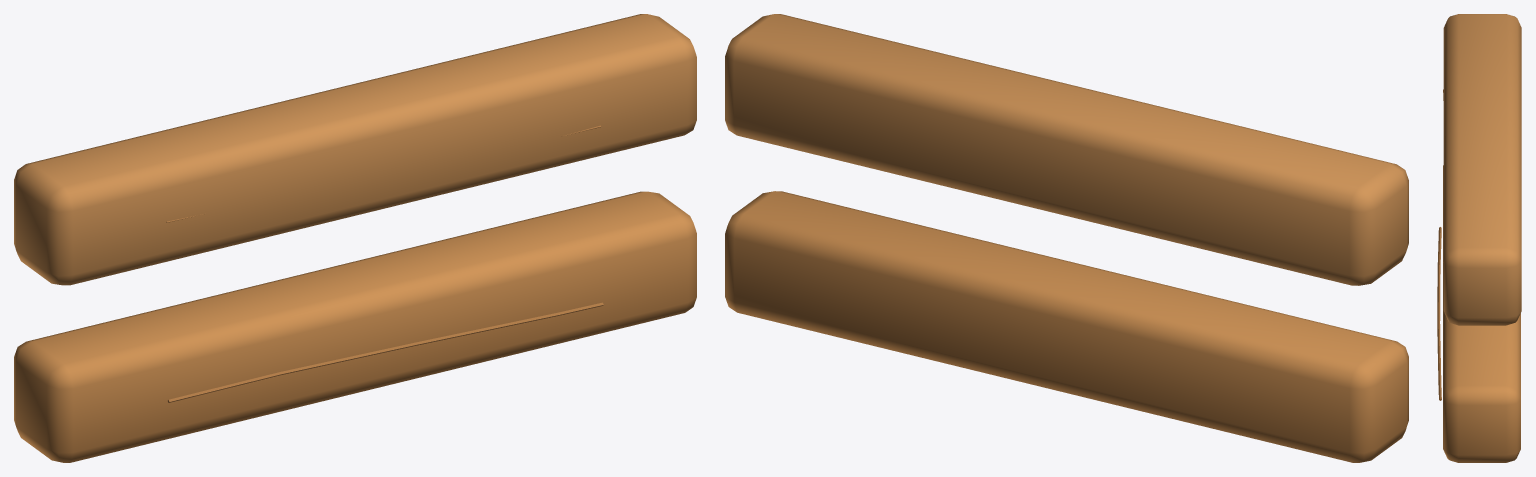
The model's file is fence_rail.glb.
3 views of the same model, side by side, from view 1: azimuth 30°, elevation 25°; view 2: azimuth 150°, elevation 25°; view 3: azimuth 270°, elevation 25° (orthographic). The views are drawn at different scales.
Visible parts, largest first — view 1: fence_rail; view 2: fence_rail; view 3: fence_rail.
Part boxes in pixels (x1=…): fence_rail: x1=14, y1=14, x2=696, y2=462; fence_rail: x1=725, y1=14, x2=1408, y2=462; fence_rail: x1=1437, y1=14, x2=1521, y2=462.
Bounding box in the file's own units: 1 × 0.4072 × 0.1451.
Materials: 1 (1 with a texture image).
